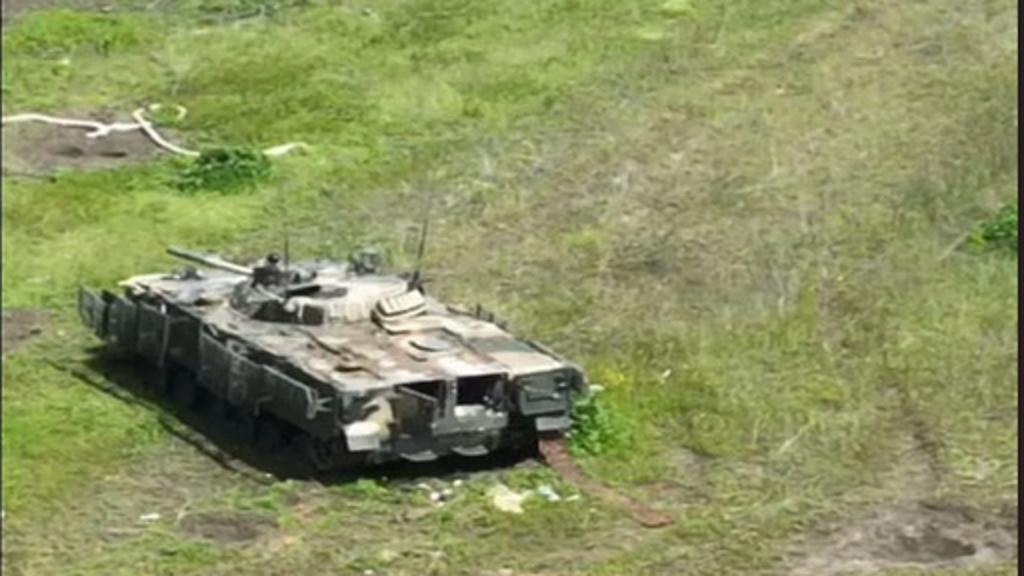APC-IFV: (68, 216, 596, 480)
